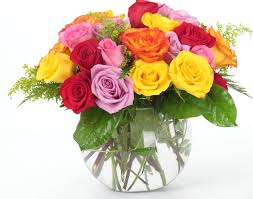lale: (89, 62, 141, 119), (169, 49, 216, 101), (120, 23, 170, 61), (125, 60, 176, 97), (52, 72, 94, 115), (67, 35, 104, 70), (98, 34, 131, 73)
